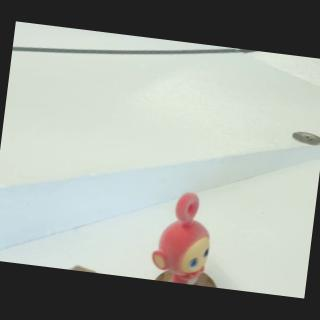teletubby: (152, 193, 209, 285)
